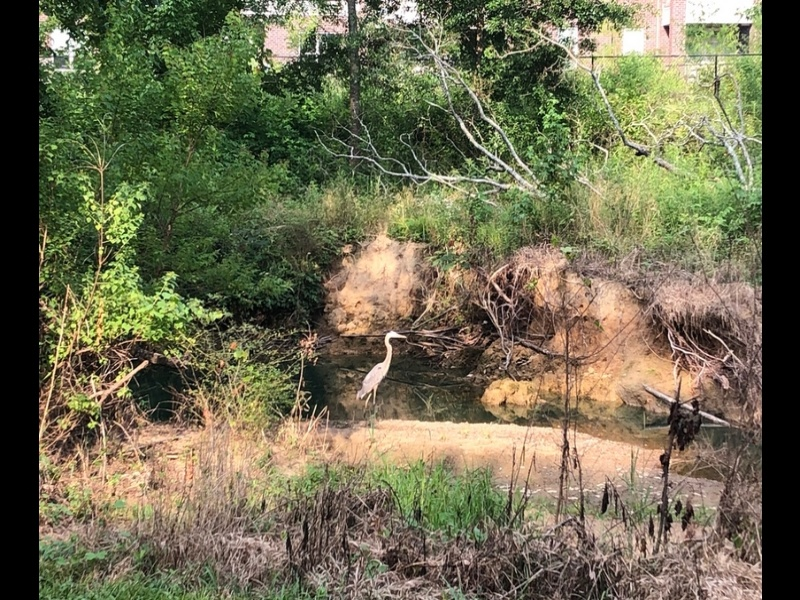heron: (353, 330, 409, 425)
